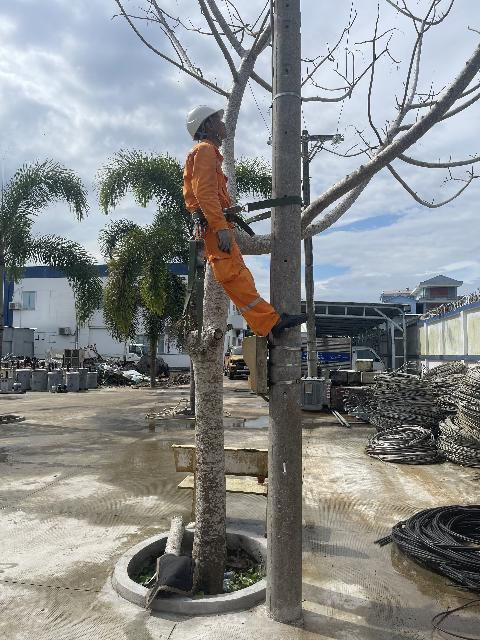gloves: (214, 227, 238, 253)
harness: (178, 198, 261, 224)
helmet: (186, 101, 232, 143)
shoes: (256, 309, 316, 337)
